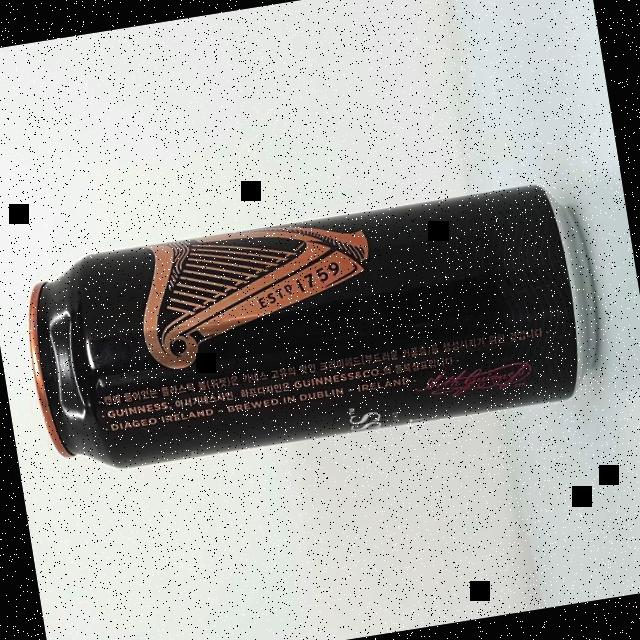can: (17, 177, 610, 481)
